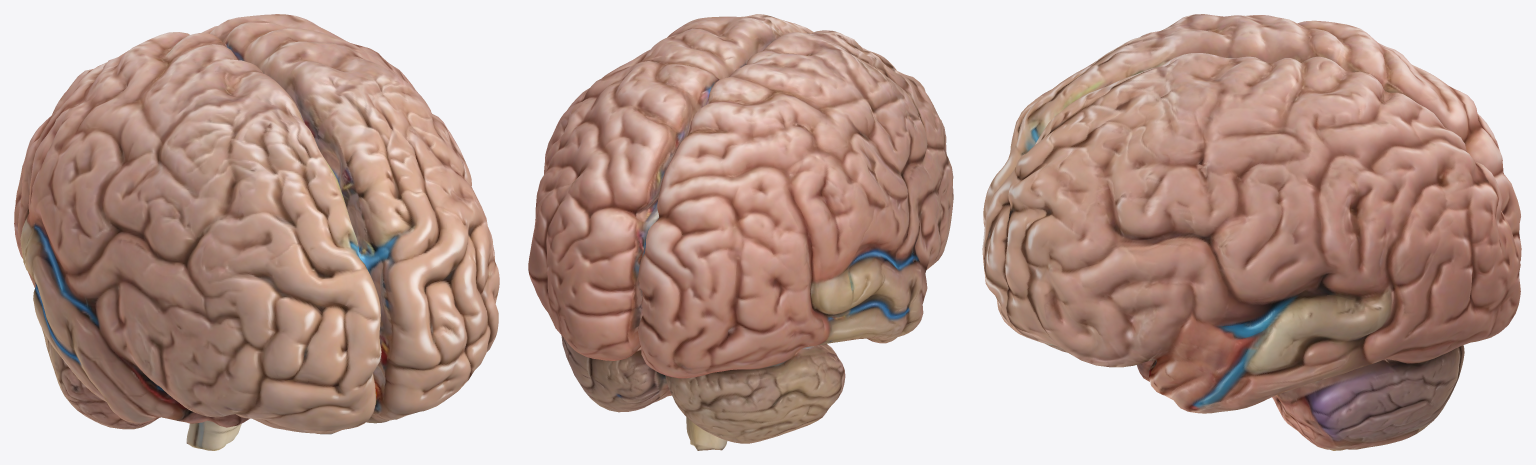
The model's file is Cerebro.glb.
The picture shows the model from 3 angles, left to right: view 1: azimuth 30°, elevation 25°; view 2: azimuth 150°, elevation 25°; view 3: azimuth 270°, elevation 25°; orthographic projection. The views are drawn at different scales.
Parts seen in each view (by area): view 1: Object_8; view 2: Object_8; view 3: Object_8.
Boxes of the visible parts, left/top/right/bottom form: Object_8: left=14, top=14, right=499, bottom=450; Object_8: left=528, top=14, right=953, bottom=450; Object_8: left=982, top=14, right=1521, bottom=450.
Size of the model in its own units: 2.83 by 2.92 by 3.52.
1 material, 1 textured.
